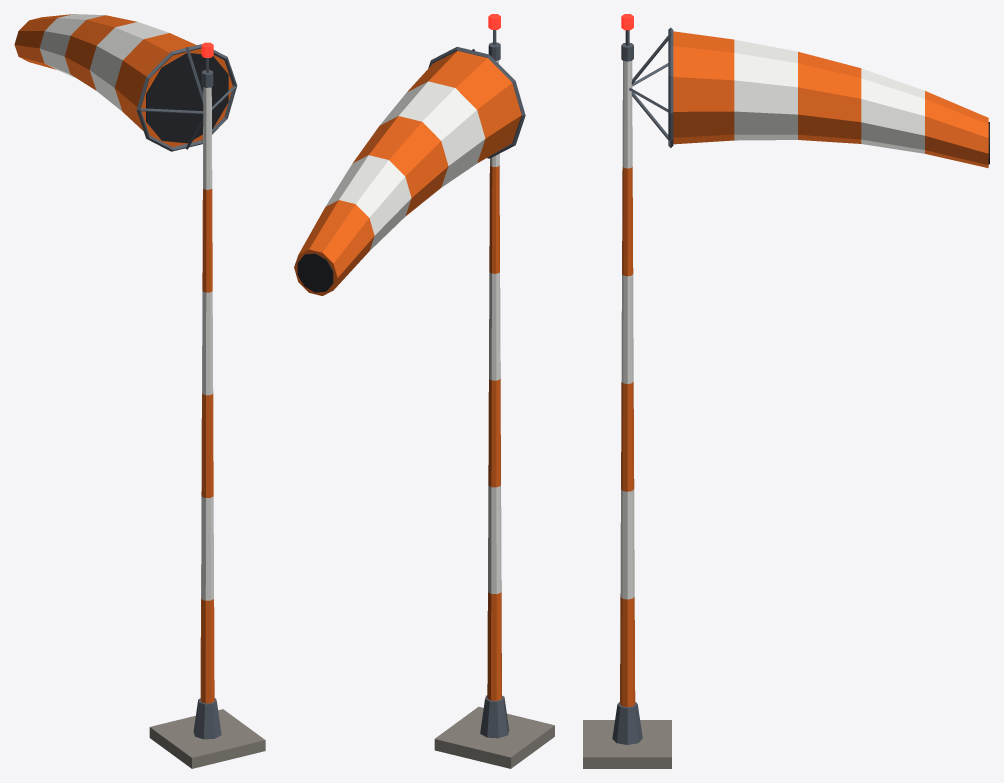
Rendered from windsock.glb.
3 renders of one model, left to right at view 1: azimuth 30°, elevation 25°; view 2: azimuth 150°, elevation 25°; view 3: azimuth 270°, elevation 25°, orthographic. The views are drawn at different scales.
Visible parts, largest first — view 1: Sock, Mast; view 2: Sock, Mast; view 3: Sock, Mast.
Boxes of the visible parts, x1,y1,x2,y2 form: Sock: (14,14,237,151); Mast: (149,42,265,768); Sock: (294,46,525,295); Mast: (434,14,554,768); Sock: (629,27,989,168); Mast: (583,14,671,768).
Size of the model in its own units: 0.96 by 6.37 by 3.2.
